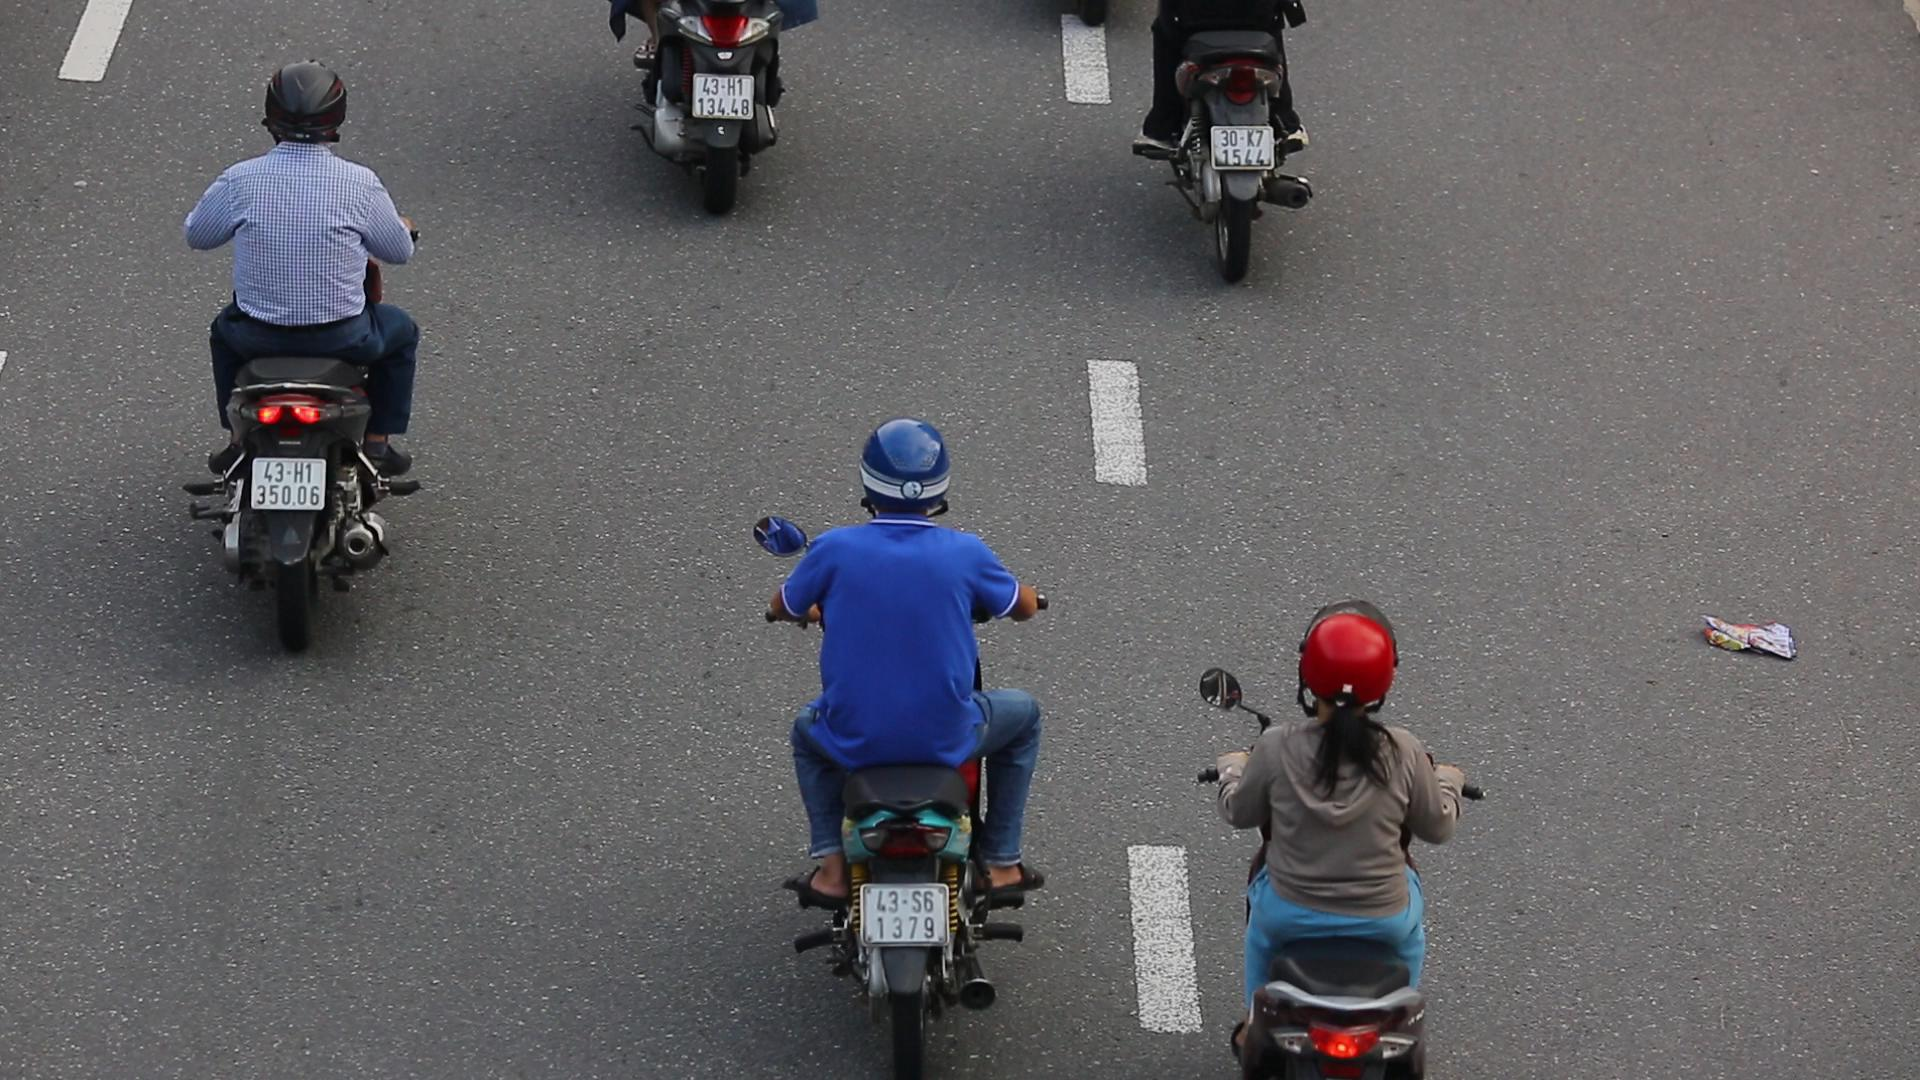motobike: (732, 407, 1062, 1080), (169, 46, 430, 665)
